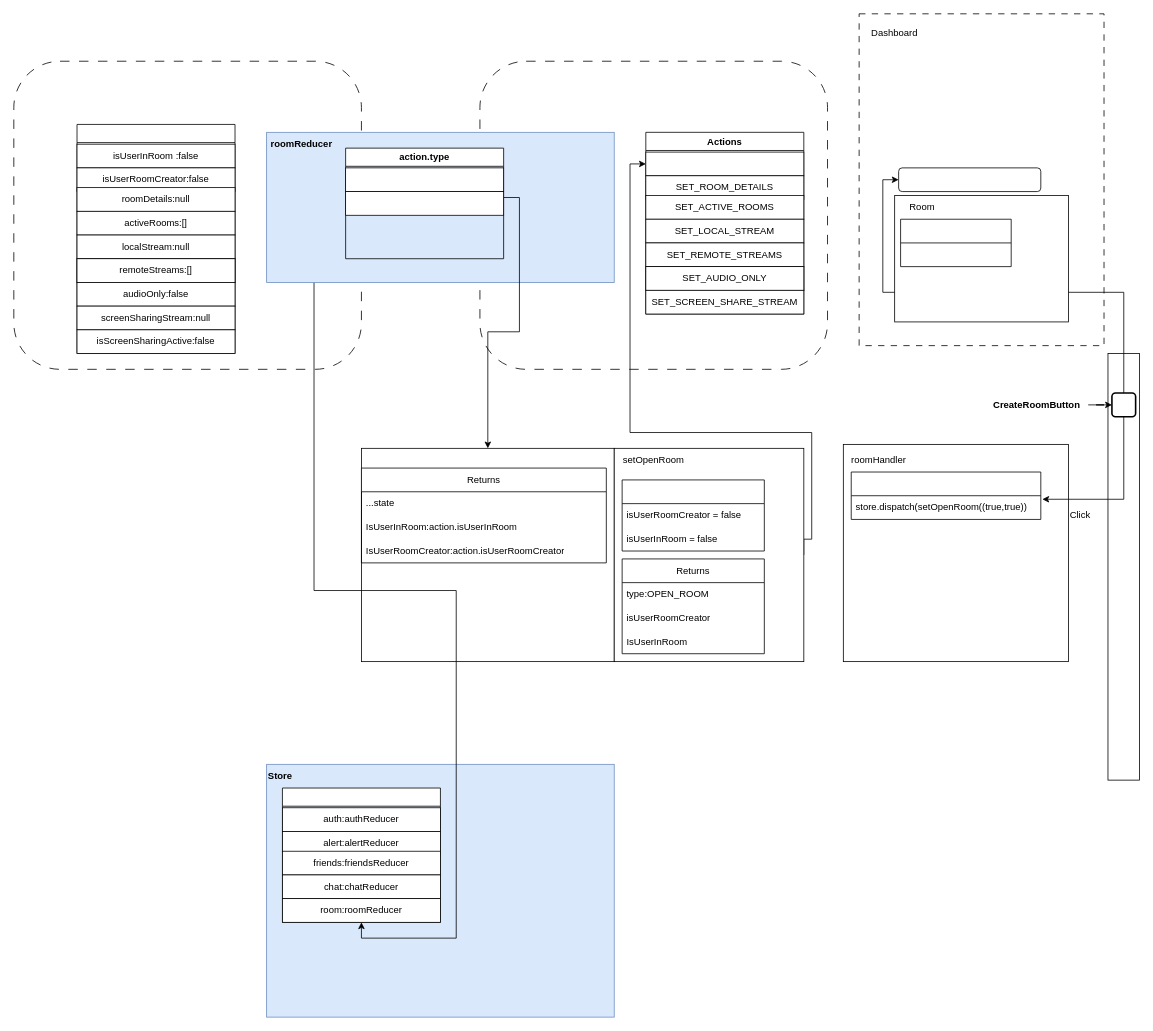
Some shapes in this 1153 by 1031 pixel diagram are drawn without their labels. Each missing label, with the box of its shape:
createNewRoom: (850, 471, 1041, 519)
default: OPEN_ROOM: (345, 191, 504, 215)
default: state: (345, 167, 504, 192)
if room.isOpenRoom: (898, 167, 1041, 192)
Initial State: (76, 124, 235, 354)
isMinimized:state: (900, 218, 1011, 267)
OPEN_ROOM: (645, 151, 804, 176)
Parameters: (621, 479, 764, 551)
rootReducer: (282, 787, 440, 922)
